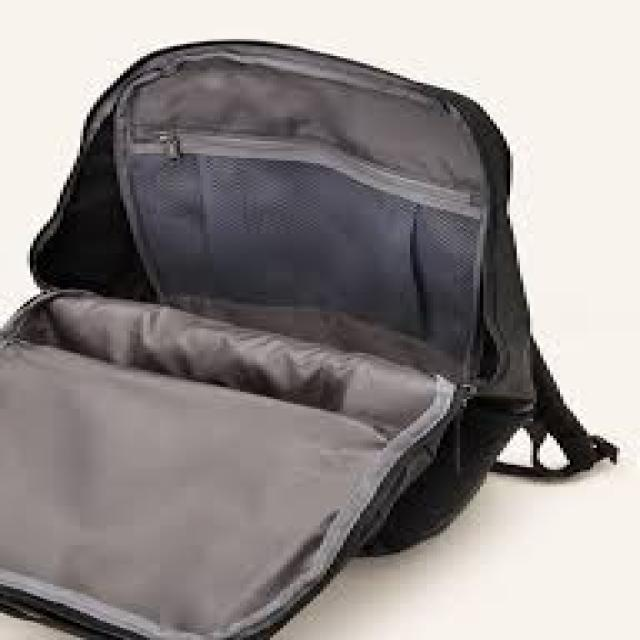backpack: (1, 38, 618, 639)
